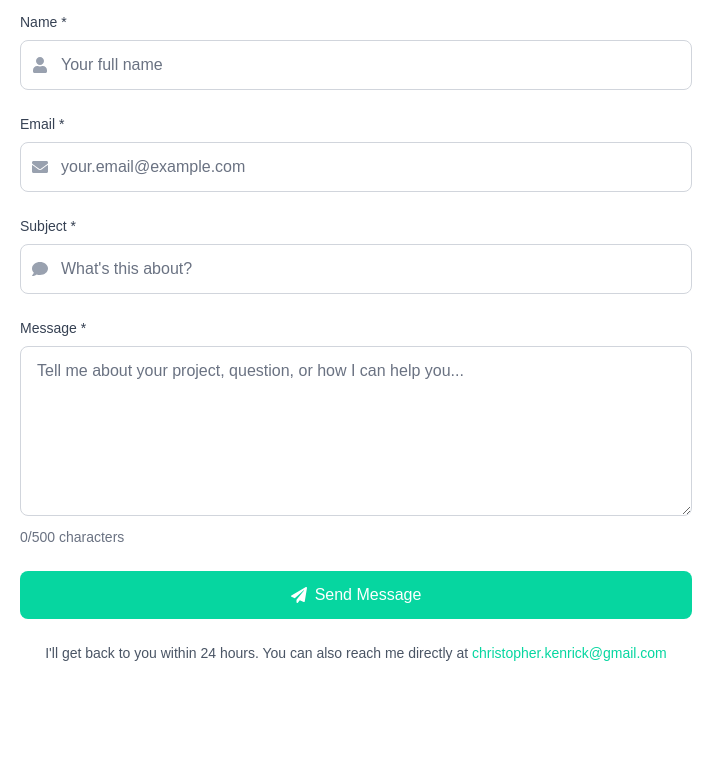
Scenario: ContactForm Component › validates minimum message length
This screenshot has width=713, height=774.
Type "Hi" into the text box labelled "Message *". click: (356, 431)
box: 20,346 -> 692,516
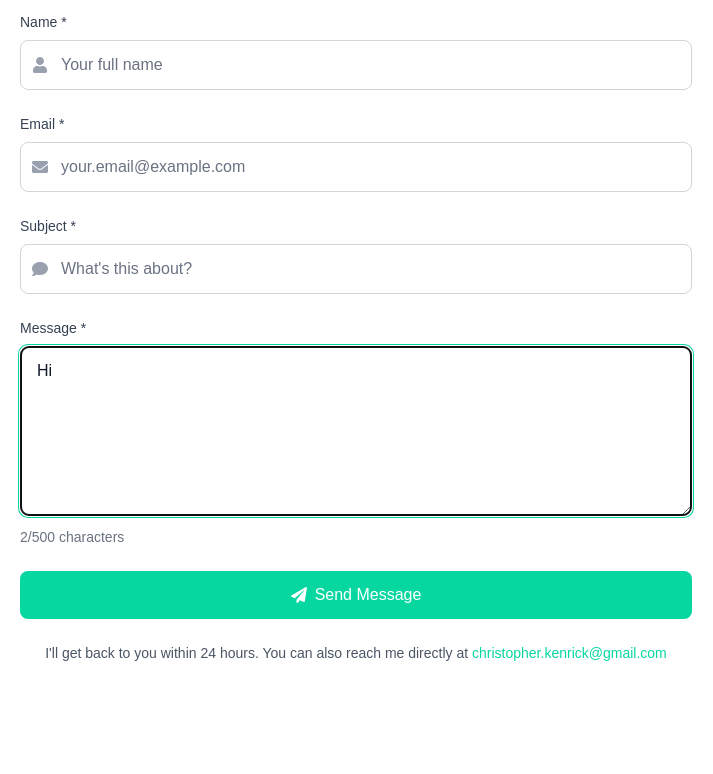
Click the button "Send Message". click: click(356, 595)
box: 20,571 -> 692,619
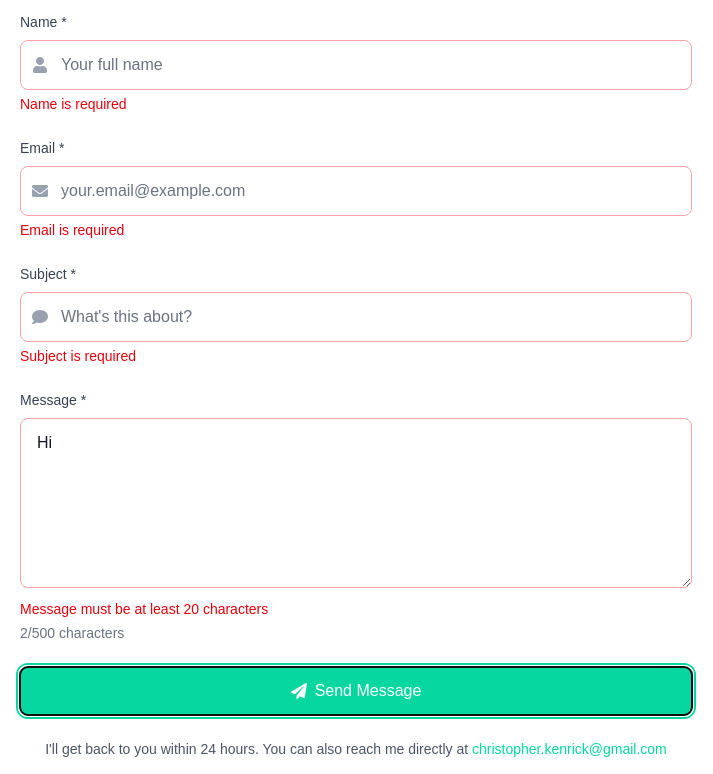
Now the text "Message must be at least 20 characters" is shown, box 20,601 -> 268,617
